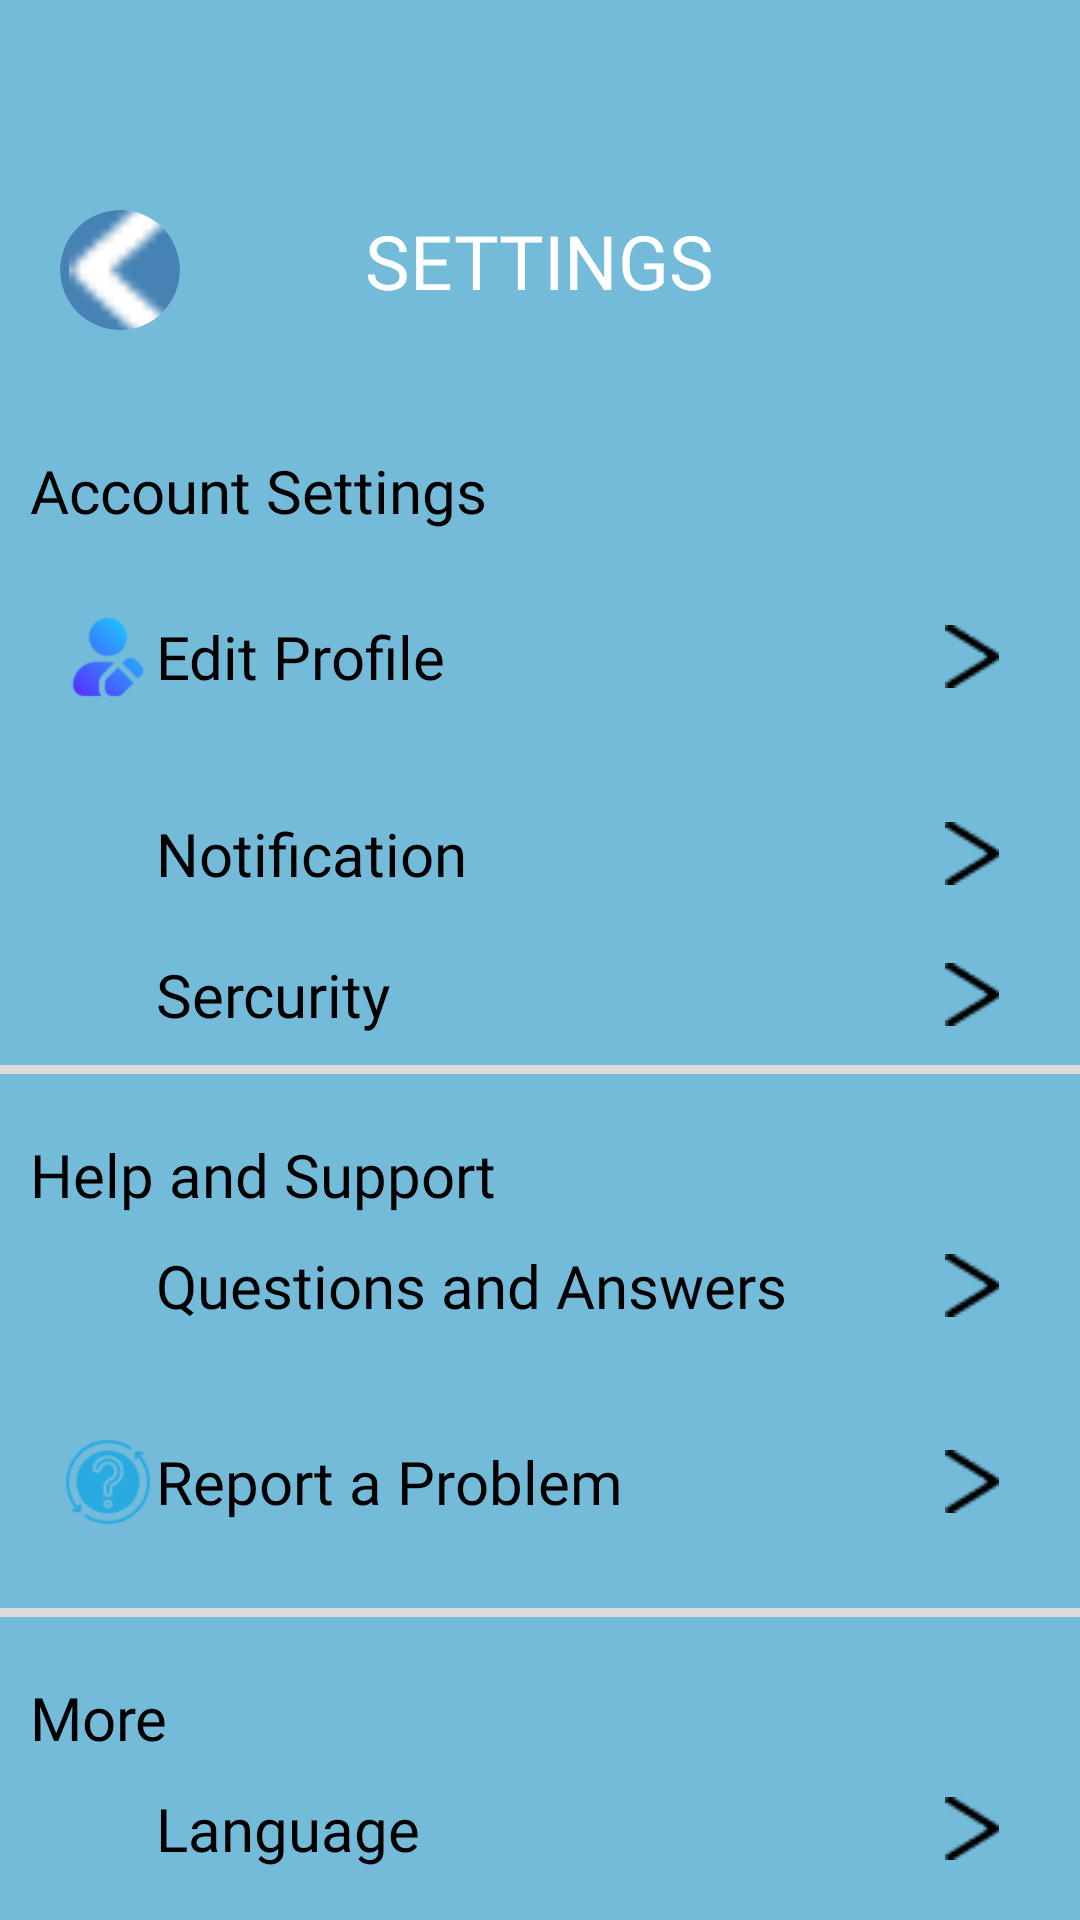

Locate icon controls on the screen. Image size 1080px×1920px, boxes as rect(x1, y1, x2, y2).
forward: rect(945, 625, 999, 688), rect(945, 822, 999, 885), rect(945, 963, 999, 1026), rect(945, 1254, 999, 1317), rect(945, 1450, 999, 1513), rect(945, 1797, 999, 1860)
